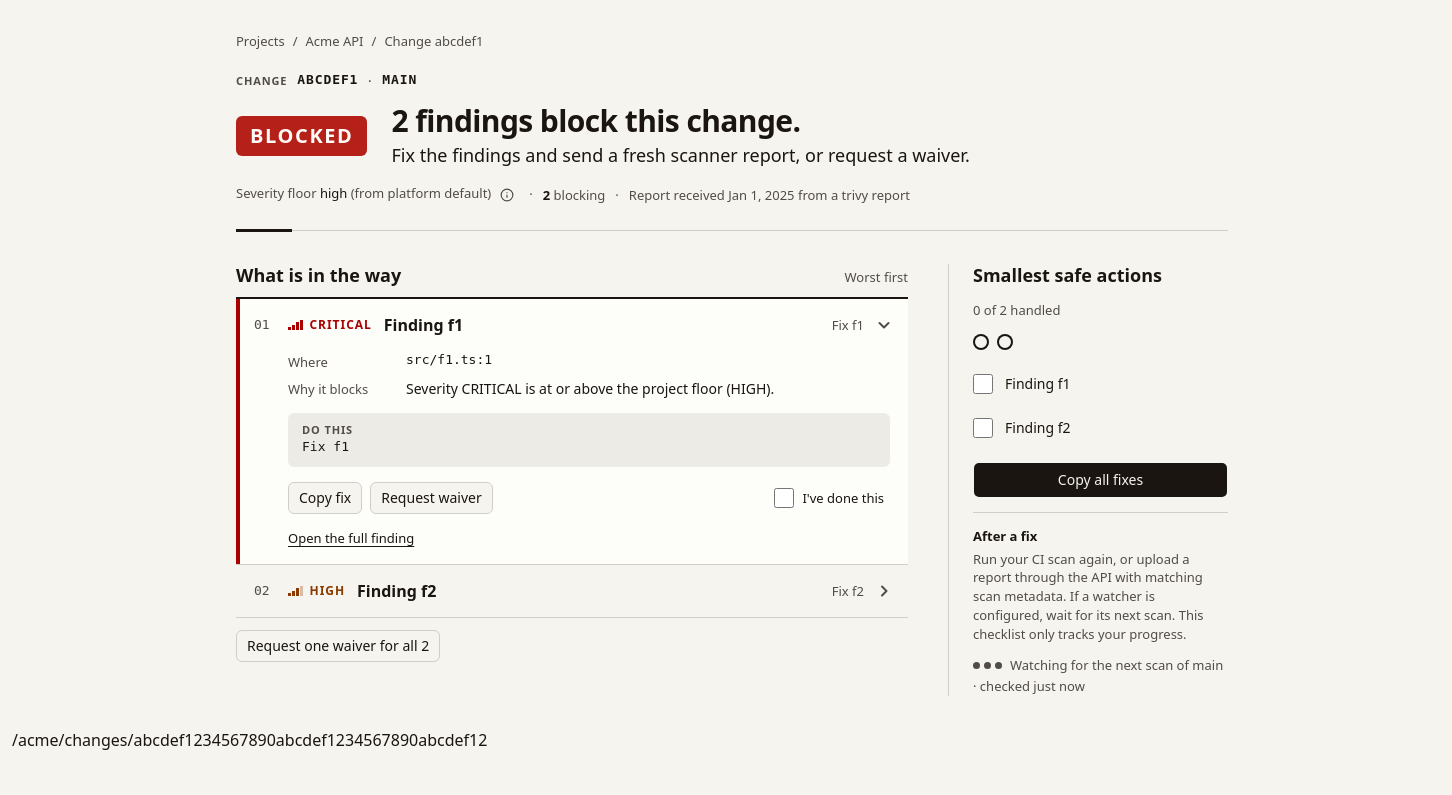
Test case: ChangeView › tracks the reader's progress without changing the verdict
Expected: the text "0 of 2 handled" is shown, [973,301,1060,319]
Click the checkbox named "I've done this: Finding f1". click: (784, 498)
box: [774,488,794,508]
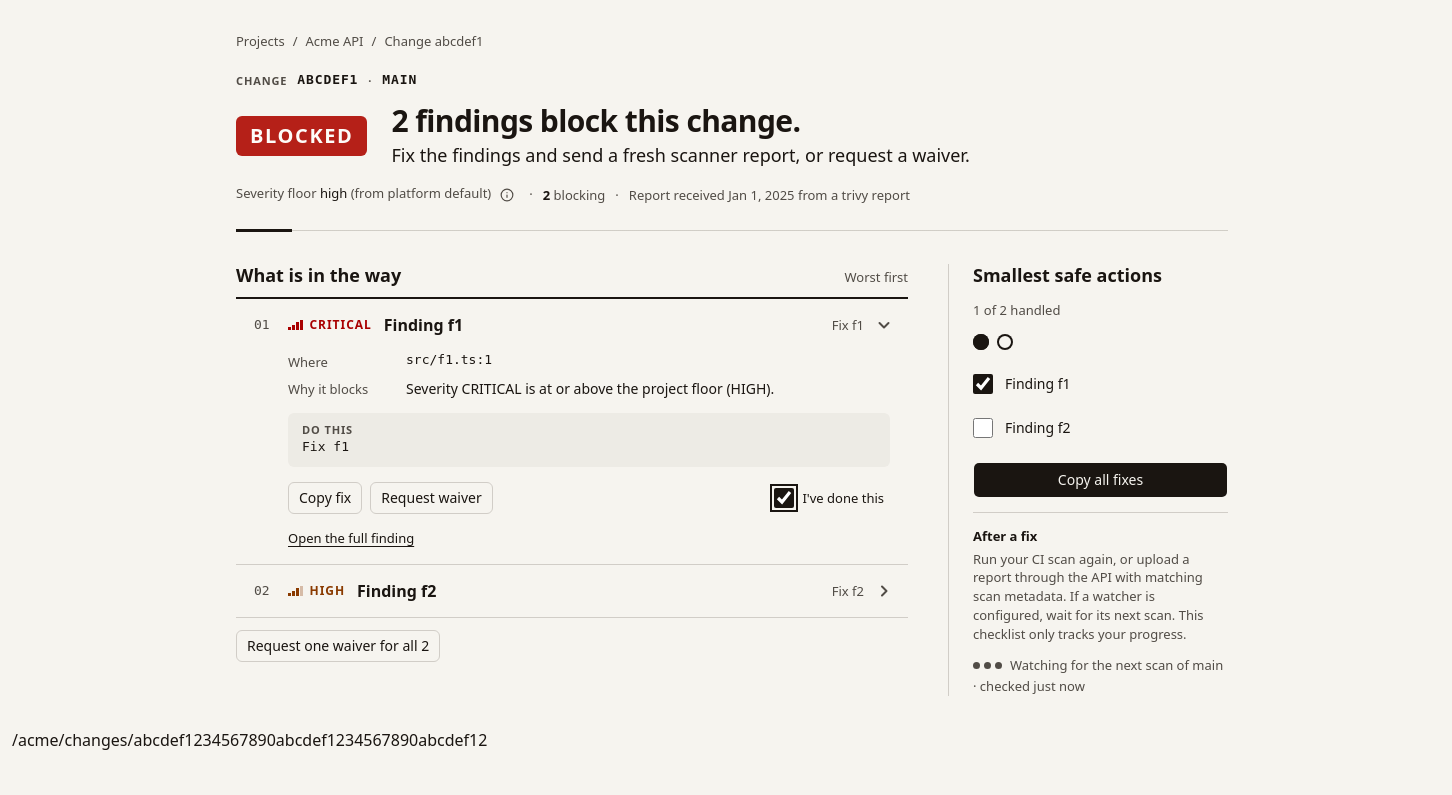
Expected: the text "BLOCKED" is shown, [236,116,368,156]
Expected: the text "1 of 2 handled" is shown, [973,301,1060,319]
Expected: the picture named "1 of 2 handled" is shown, [973,334,1013,350]
